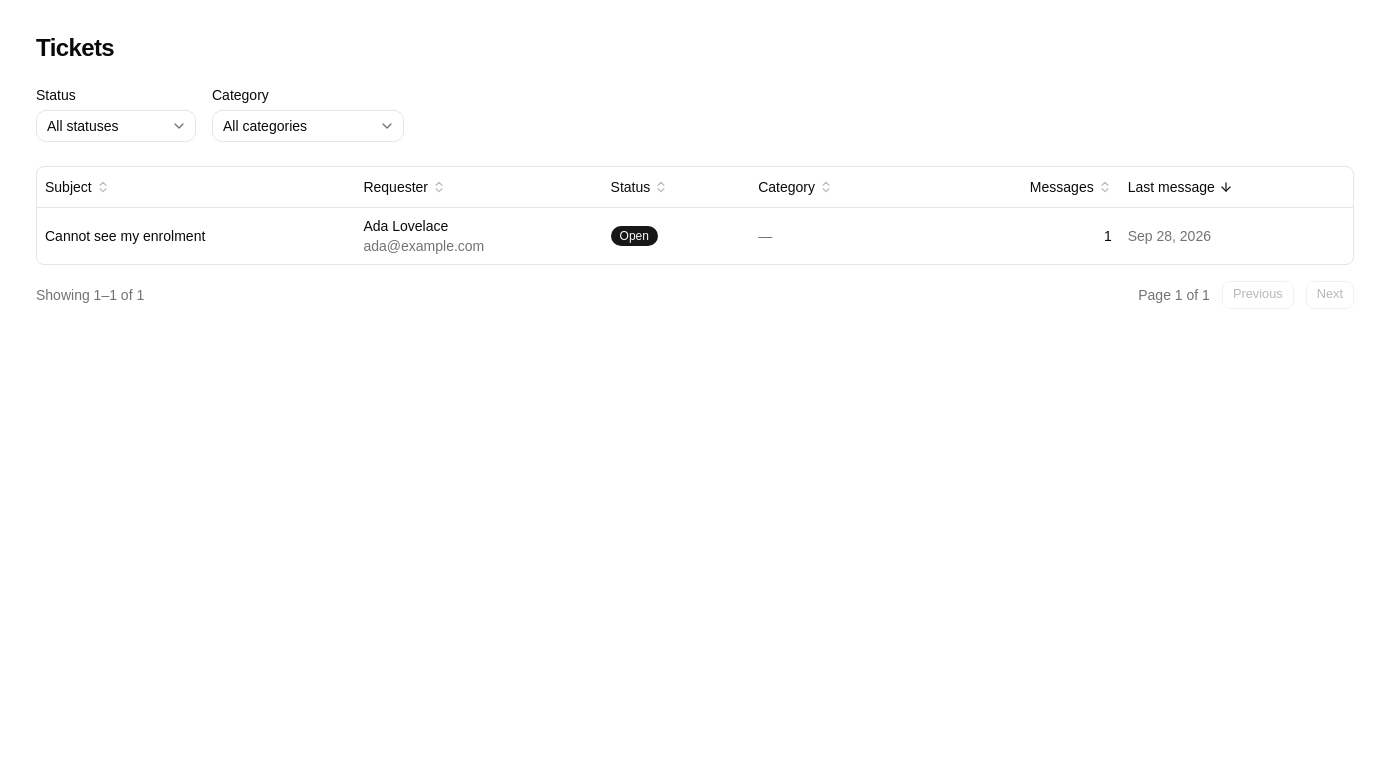
Scenario: TicketsPage › reverses the default column on its first click
Click the button "Last message". click: x=1180, y=187
box: left=1120, top=173, right=1241, bottom=201
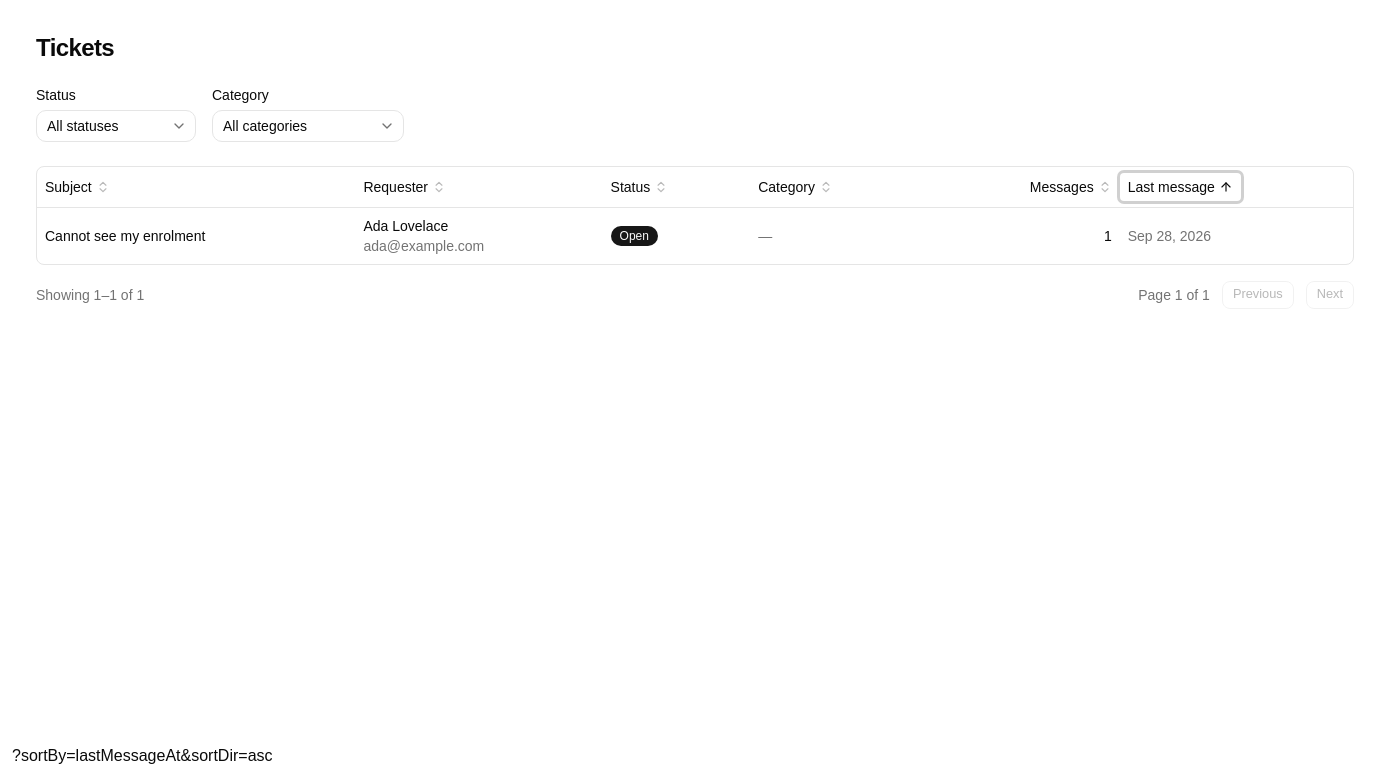
Expected: the text with test id "location-search" reads "?sortBy=lastMessageAt&sortDir=asc", left=12, top=747, right=272, bottom=764
